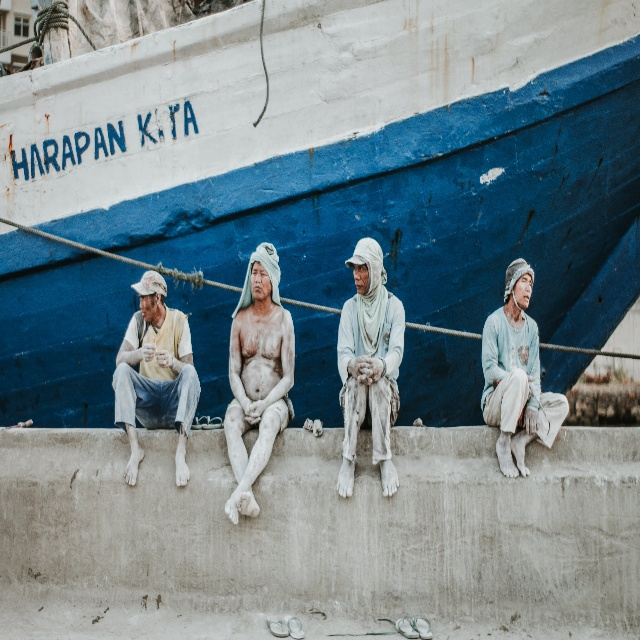Sin_guantes: (356, 353, 384, 383), (351, 353, 373, 387), (523, 406, 539, 439), (244, 399, 264, 425), (243, 399, 260, 425), (155, 349, 172, 369), (143, 342, 156, 363), (526, 373, 537, 396)
